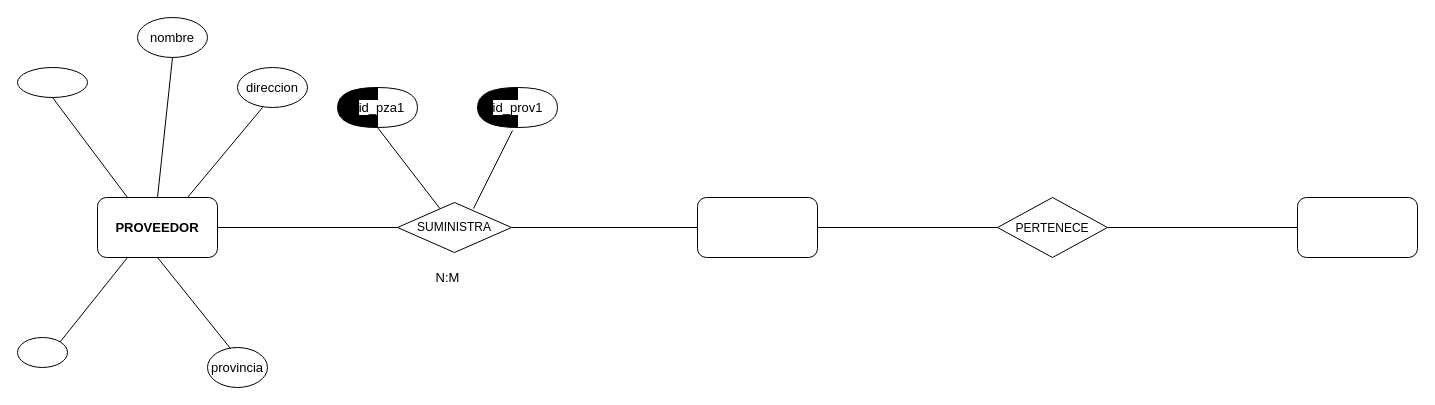
Image size: 1435x405. Some labels were removed from this diagram. The shapes that lost their labels are listed below. From the top down, each one's centre as x and y in pixels, then its label:
At (52,82): "id_prov".
At (757,227): "PIEZAS".
At (1357,227): "CATEGORIA".
At (42,352): "ciudad".
